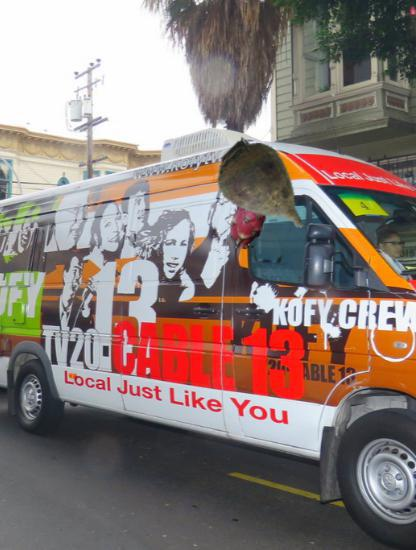Beetroot: (210, 134, 319, 243)
Pitahaya: (219, 197, 272, 250)
